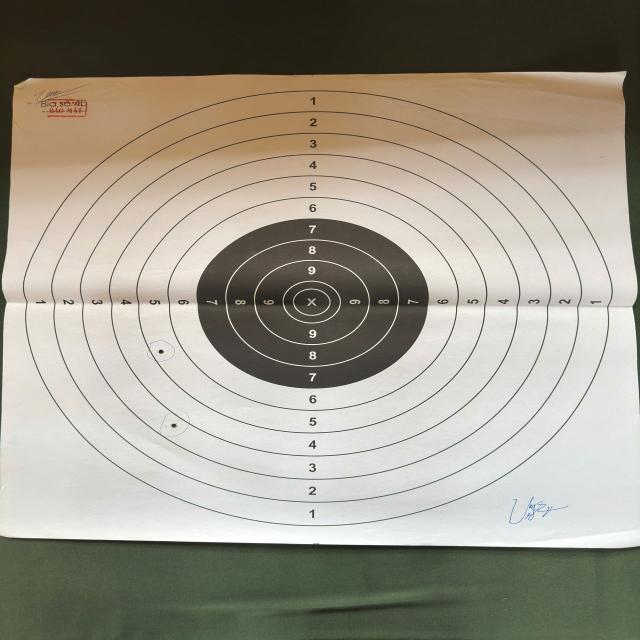bullet: (158, 349, 164, 354), (172, 424, 176, 428)
target: (12, 69, 636, 548)
